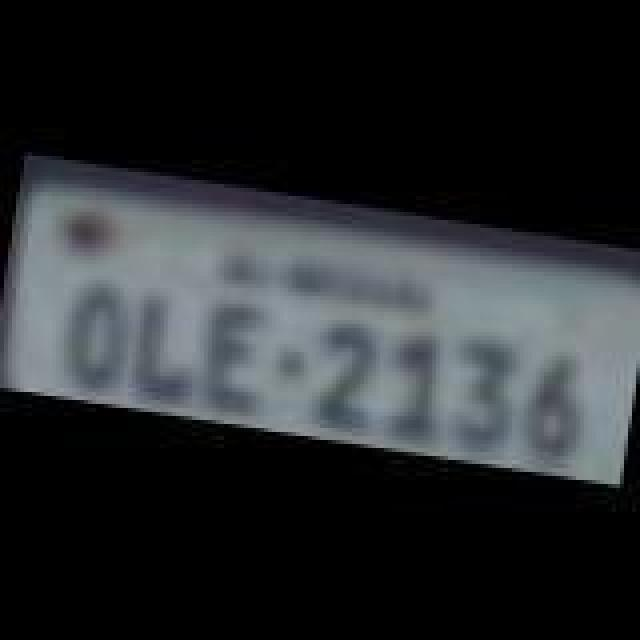1: (372, 328, 444, 448)
2: (304, 318, 392, 434)
3: (440, 336, 536, 456)
6: (514, 348, 598, 468)
E: (188, 300, 276, 420)
L: (120, 286, 200, 402)
O: (52, 278, 140, 394)
